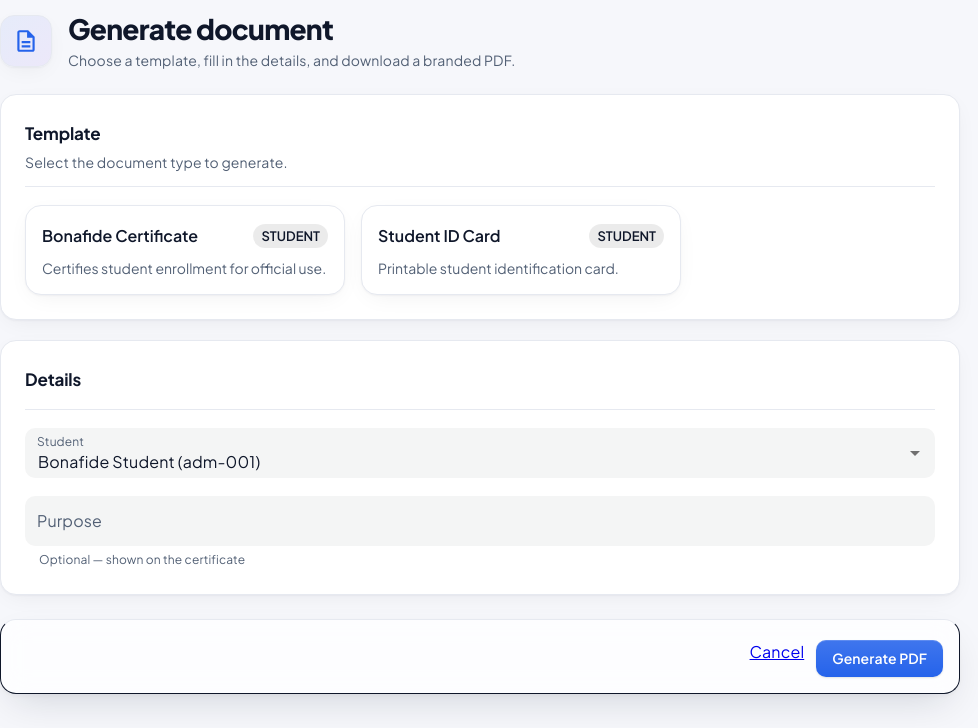
Scenario: GenerateDocumentPage › shows forbidden state when generation is denied
This screenshot has width=978, height=728.
Check: the dropdown "Bonafide Student (adm-001)" is shown, box [38,451,260,472]
Click the button "Generate PDF" at (880, 658), box [816,640,943,676]
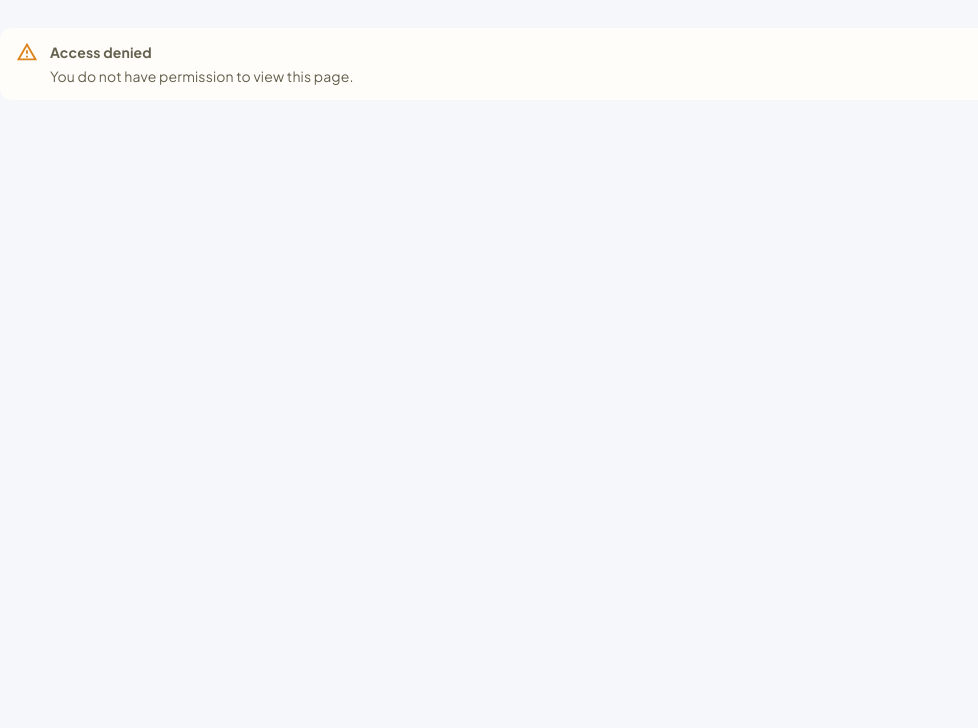
Check: the text "You do not have permission to view this page." is shown, box [50,66,354,86]
